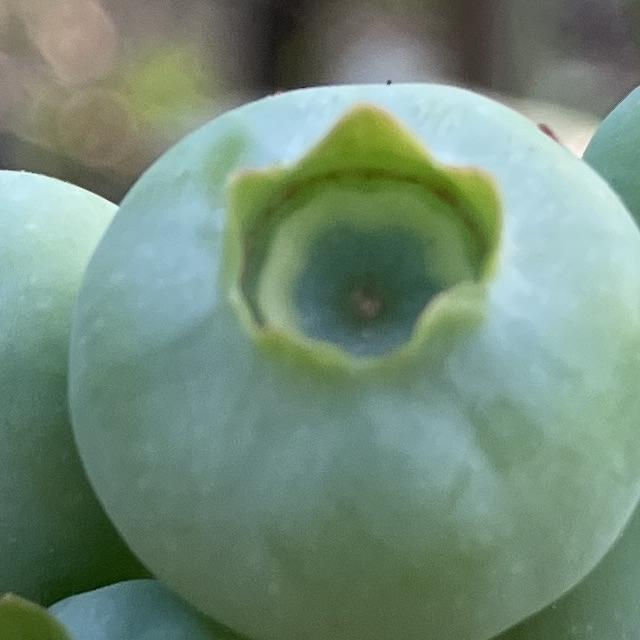Blueberries: (47, 63, 640, 640)
